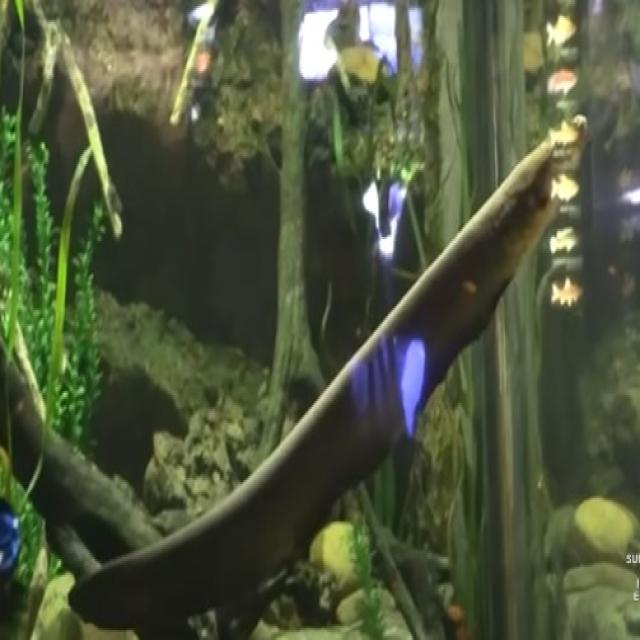Freshwater-Eel: (44, 54, 568, 640)
